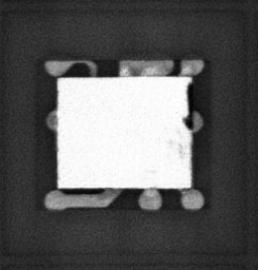DIE_BROKEN: (182, 82, 195, 132)
